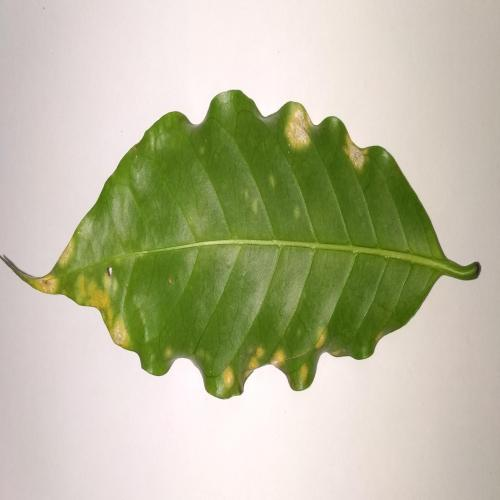phoma: (285, 102, 314, 148)
